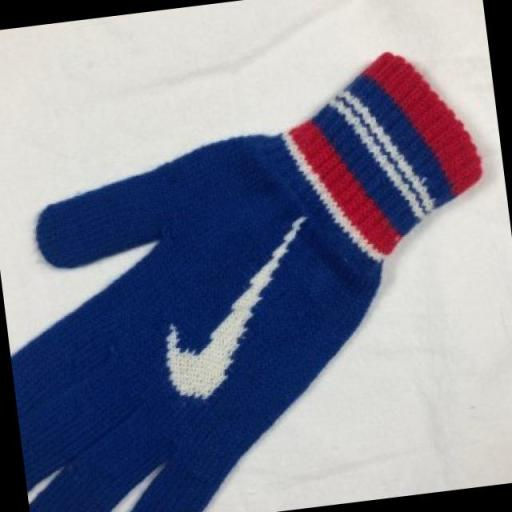Nike: (129, 209, 336, 412)
